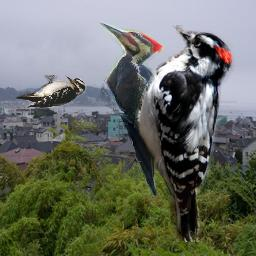Woodpecker: (134, 25, 236, 242), (97, 21, 164, 198), (14, 75, 90, 110)
